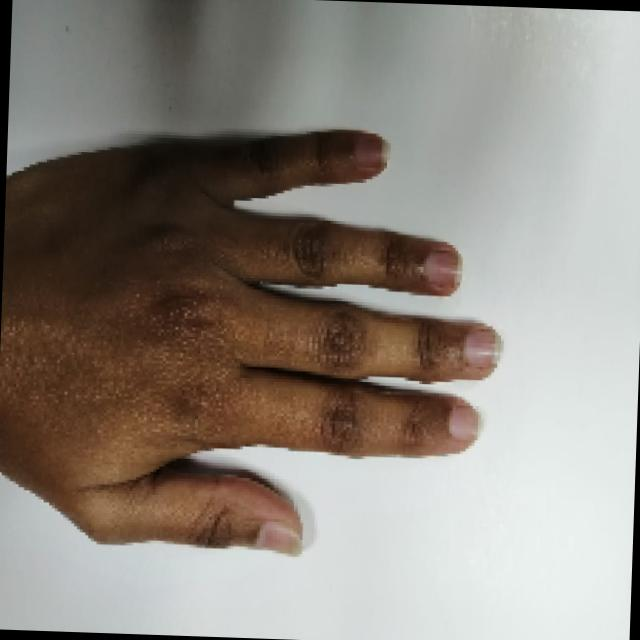Nail: (253, 521, 301, 556), (423, 250, 461, 285), (353, 131, 387, 170), (463, 330, 499, 365), (448, 405, 478, 440)
